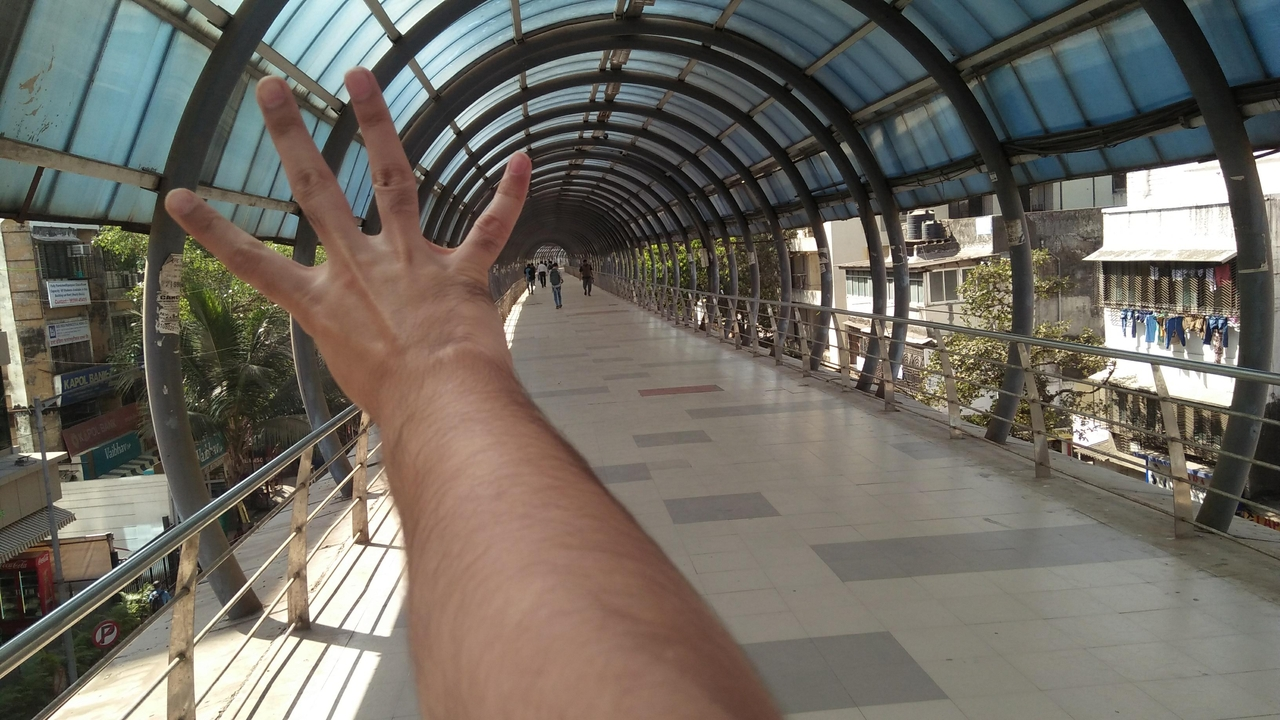fingertip: (238, 66, 294, 122), (151, 177, 206, 230), (330, 56, 386, 104), (486, 142, 538, 190)
